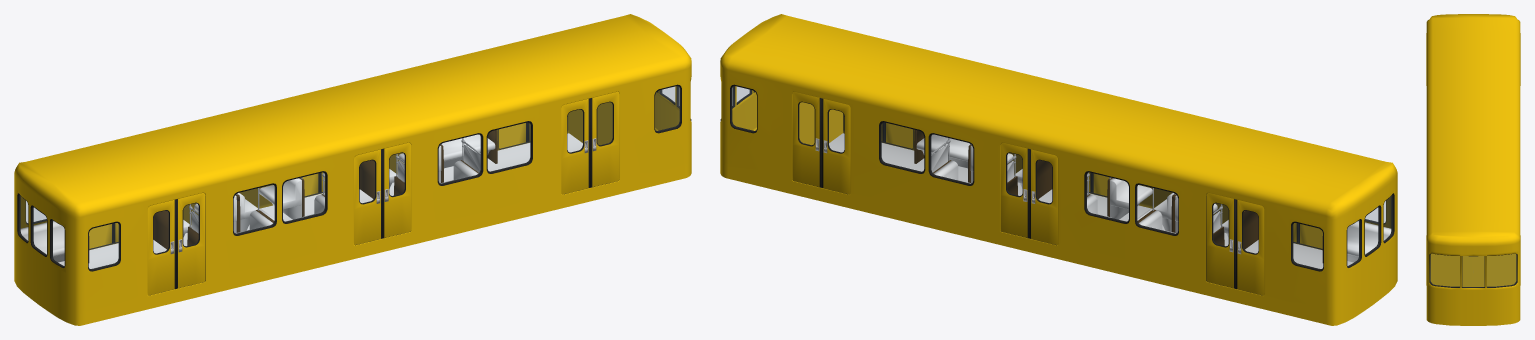
File: train.fbx
3 renders of one model, left to right at view 1: azimuth 30°, elevation 25°; view 2: azimuth 150°, elevation 25°; view 3: azimuth 270°, elevation 25°, orthographic. The views are drawn at different scales.
Visible parts, largest first — view 1: full; view 2: full; view 3: full.
Part boxes in pixels (x1=…): full: x1=14, y1=14, x2=691, y2=325; full: x1=720, y1=14, x2=1397, y2=325; full: x1=1426, y1=14, x2=1520, y2=325.
Size of the model in its own units: 1834 by 330 by 323.
